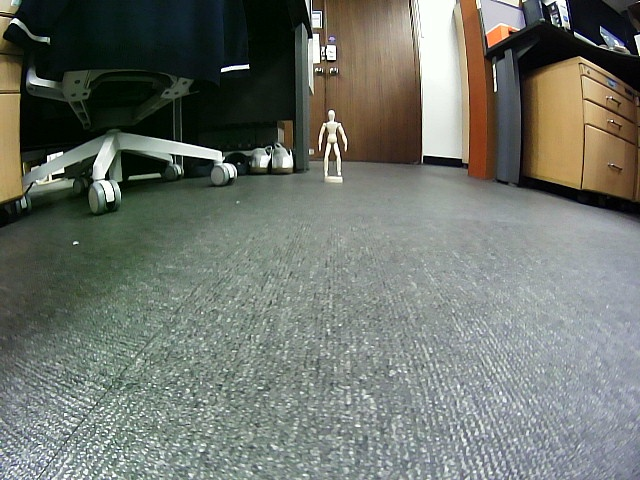person: (318, 108, 347, 175)
